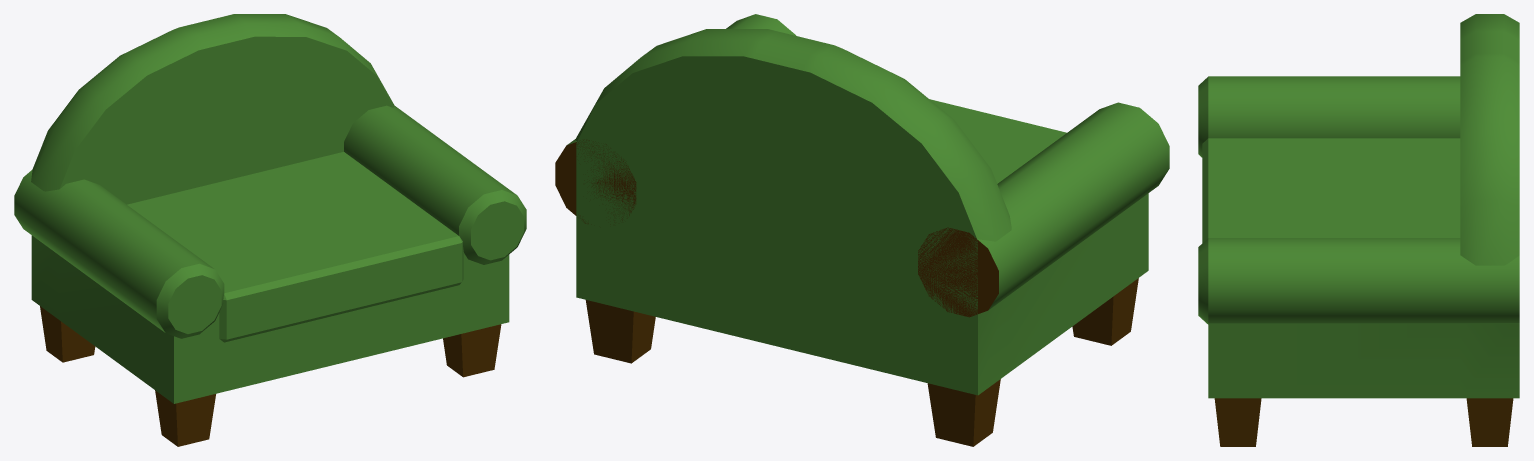
File: ArmchairModel.FBX
The picture shows the model from 3 angles, left to right: view 1: azimuth 30°, elevation 25°; view 2: azimuth 150°, elevation 25°; view 3: azimuth 270°, elevation 25°; orthographic projection. The views are drawn at different scales.
Visible parts, largest first — view 1: armchair; view 2: armchair; view 3: armchair.
Part boxes in pixels (left/top/right/bottom): armchair: left=14, top=14, right=526, bottom=446; armchair: left=555, top=14, right=1169, bottom=446; armchair: left=1198, top=14, right=1519, bottom=446.
Size of the model in its own units: 78.69 by 59.45 by 54.11.
